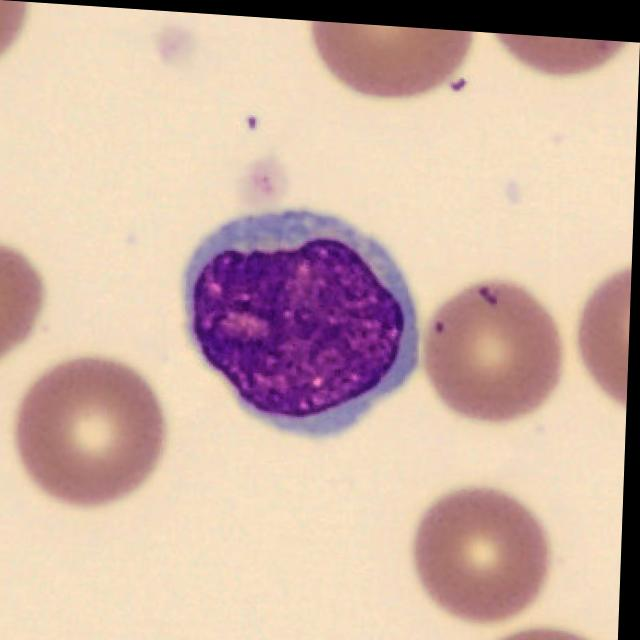Linfocito: (186, 203, 422, 426)
